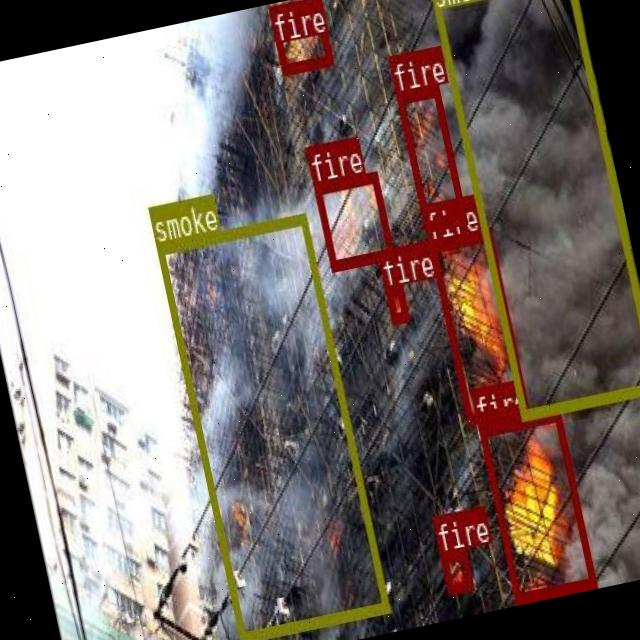fire: (478, 408, 594, 600), (427, 227, 528, 423), (394, 82, 465, 230), (312, 170, 394, 270), (266, 0, 331, 71), (438, 549, 472, 594), (384, 284, 408, 322)
smoke: (155, 211, 387, 640), (425, 0, 640, 419)
